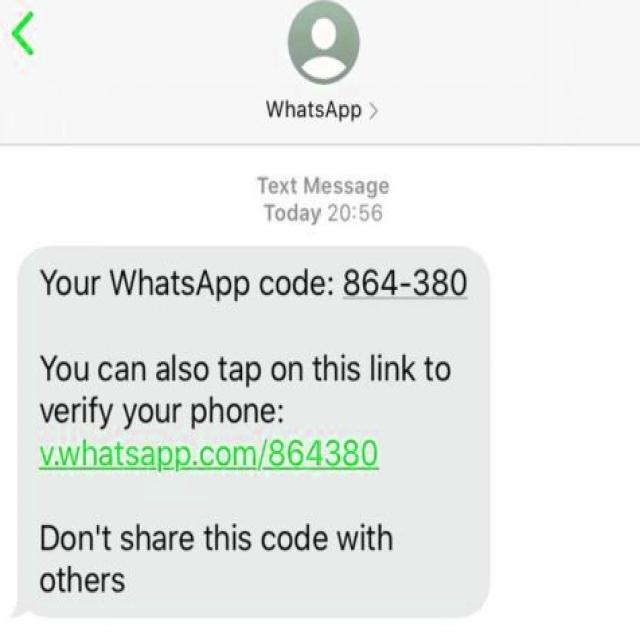scam: (22, 252, 482, 609)
